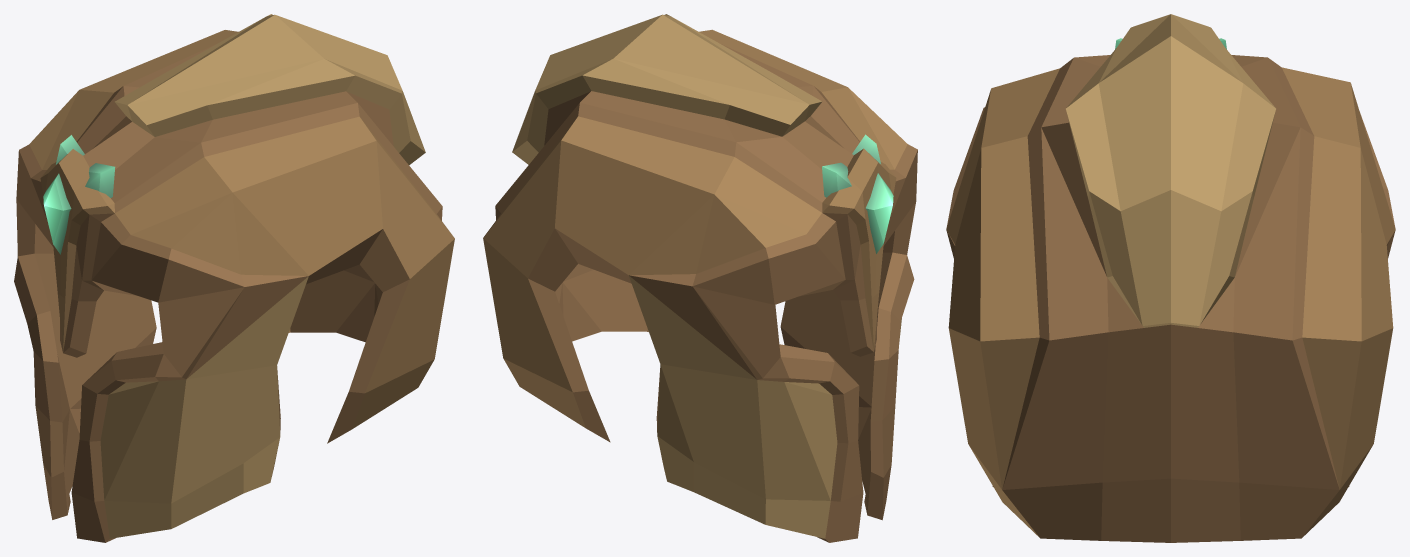
Rendered from Chr_Attach_Helmet_02.fbx.
The picture shows the model from 3 angles, left to right: view 1: azimuth 30°, elevation 25°; view 2: azimuth 150°, elevation 25°; view 3: azimuth 270°, elevation 25°; orthographic projection. The views are drawn at different scales.
Parts seen in each view (by area): view 1: Chr_Attach_Helmet_02; view 2: Chr_Attach_Helmet_02; view 3: Chr_Attach_Helmet_02.
Boxes of the visible parts, box(x1,y1,x2,y2) form: Chr_Attach_Helmet_02: box(14, 14, 454, 542); Chr_Attach_Helmet_02: box(483, 14, 917, 542); Chr_Attach_Helmet_02: box(946, 14, 1395, 542).
Bounding box in the file's own units: 32.14 × 26.68 × 38.06.
1 material, 1 textured.
